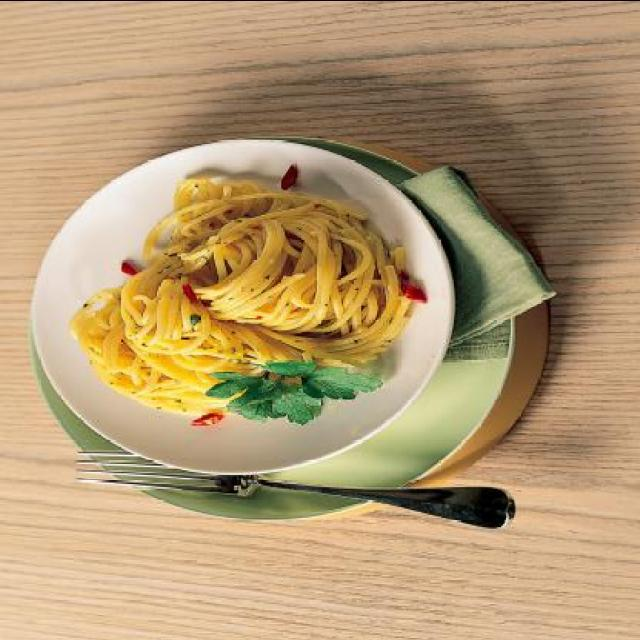Oil pasta: (50, 100, 458, 462)
